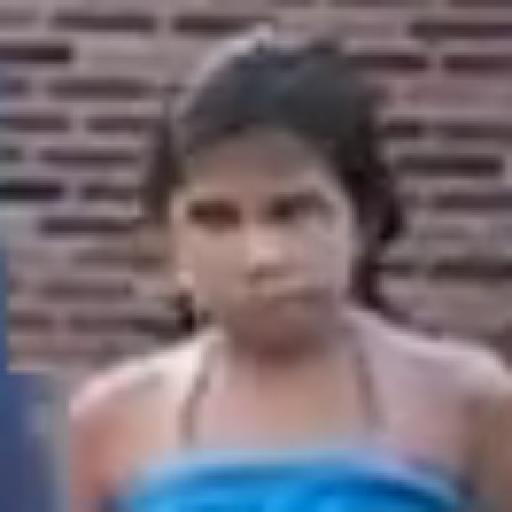Autism: (122, 57, 406, 378)
